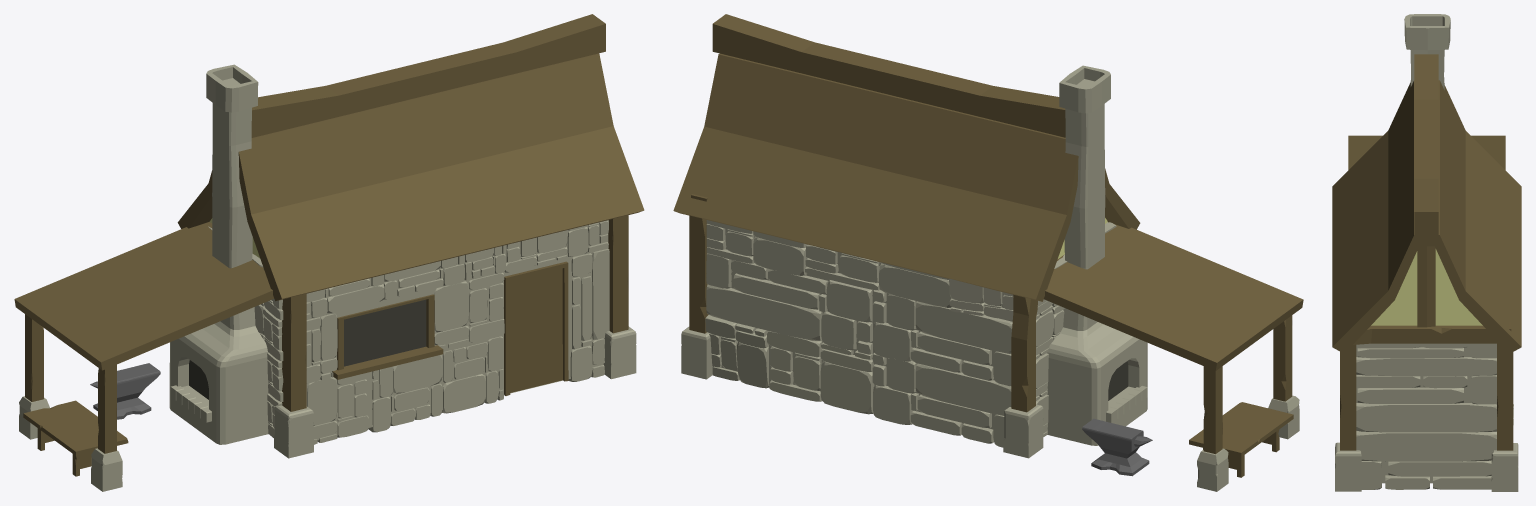
File: NEW_blacksmith.fbx
3 renders of one model, left to right at view 1: azimuth 30°, elevation 25°; view 2: azimuth 150°, elevation 25°; view 3: azimuth 270°, elevation 25°, orthographic. The views are drawn at different scales.
Visible parts, largest first — view 1: Plane.005, Cube.002; view 2: Plane.005, Cube.002; view 3: Plane.005, Cube.002.
Boxes of the visible parts, x1,y1,x2,y2 form: Plane.005: (14,14,644,491); Cube.002: (208,220,609,444); Plane.005: (673,14,1303,491); Cube.002: (705,220,1116,447); Plane.005: (1332,14,1521,491); Cube.002: (1356,343,1513,489).
Bounding box in the file's own units: 1209 × 732 × 398.
